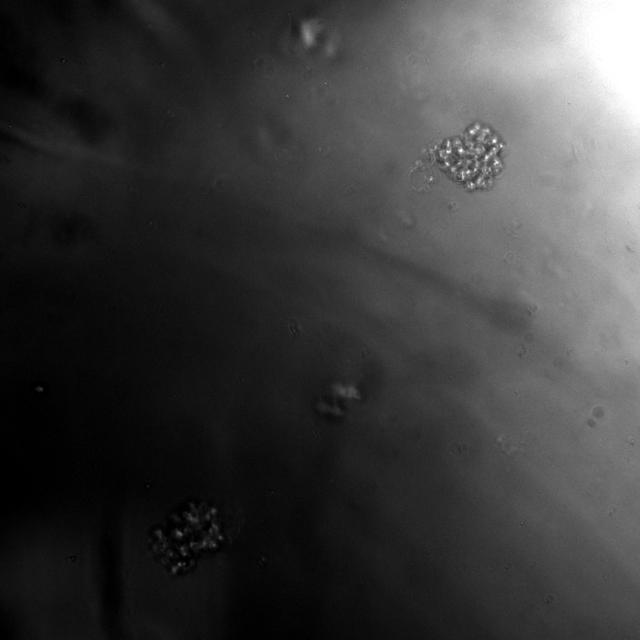organoid: (409, 121, 505, 192), (148, 500, 224, 576)
